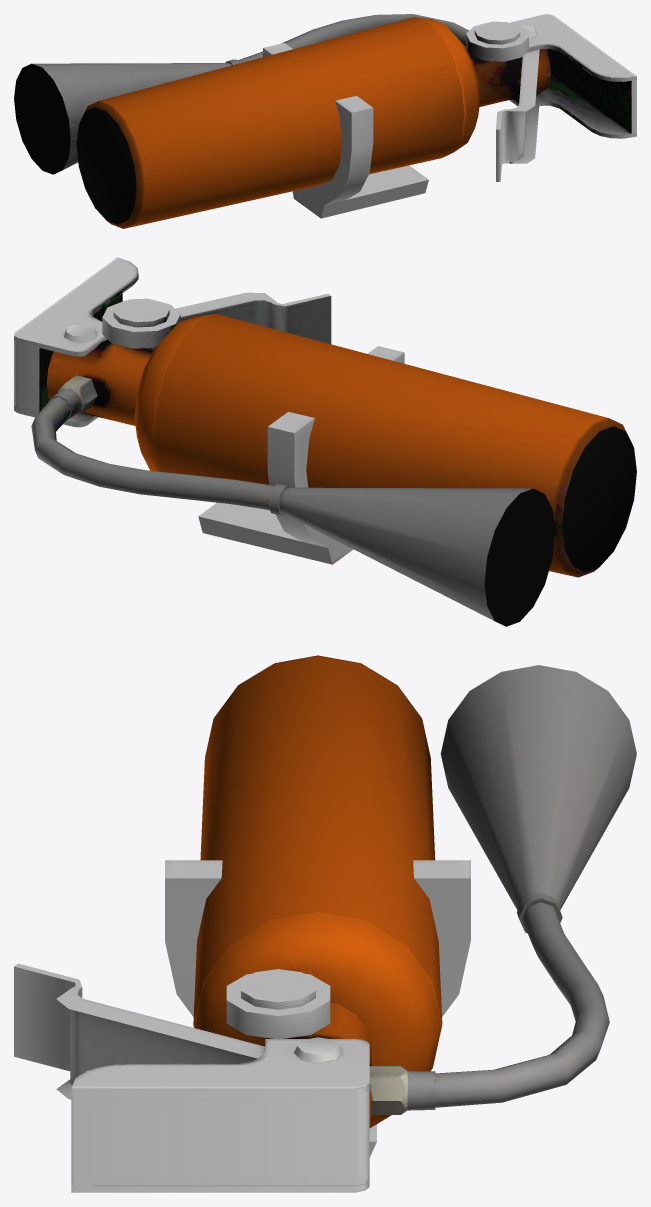
The model's file is props_2fort_fire_extinguisher.glb.
3 views of the same model, one above another, from view 1: azimuth 30°, elevation 25°; view 2: azimuth 150°, elevation 25°; view 3: azimuth 270°, elevation 25° (orthographic). The views are drawn at different scales.
Parts seen in each view (by area): view 1: models/props_2fort/fire_extinguisher; view 2: models/props_2fort/fire_extinguisher; view 3: models/props_2fort/fire_extinguisher.
Part boxes in pixels (x1,y1,x2,y2): models/props_2fort/fire_extinguisher: (14,14,636,228); models/props_2fort/fire_extinguisher: (14,257,636,626); models/props_2fort/fire_extinguisher: (14,655,636,1192).
Size of the model in its own units: 26.73 by 8.74 by 18.22.
Materials: 1 (1 with a texture image).
